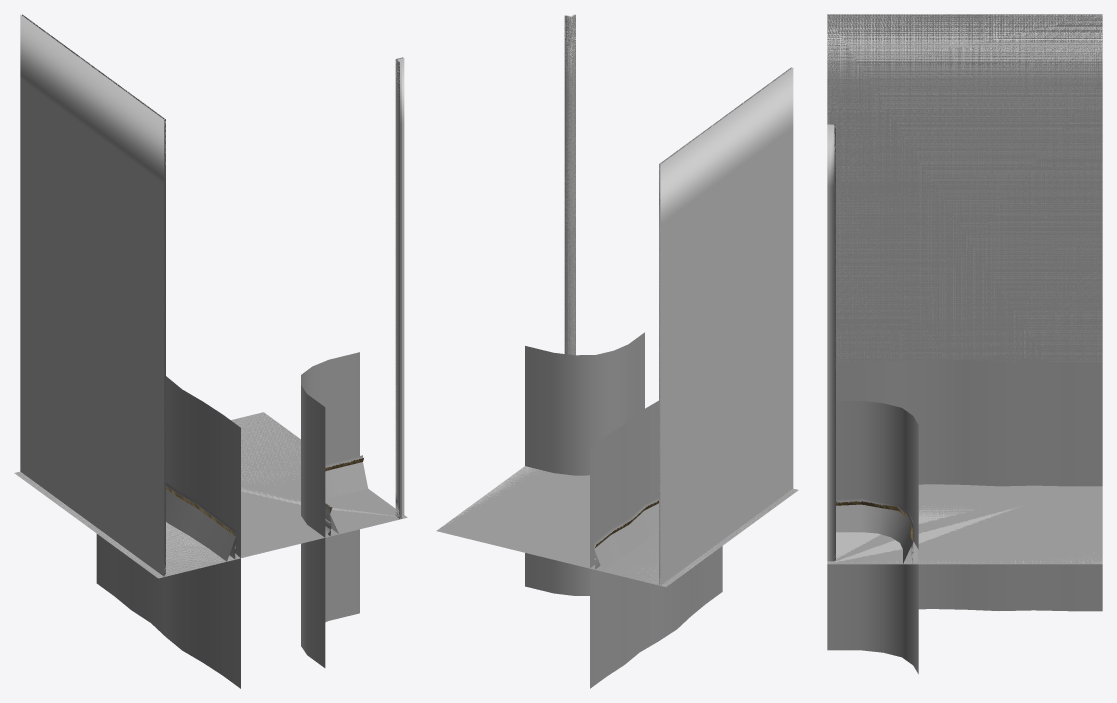
Rendered from roomgateC1.fbx.
3 renders of one model, left to right at view 1: azimuth 30°, elevation 25°; view 2: azimuth 150°, elevation 25°; view 3: azimuth 270°, elevation 25°, orthographic. The views are drawn at different scales.
Parts seen in each view (by area): view 1: mdl_LOD0, col_w, col_o, mdl2_LOD0; view 2: mdl_LOD0, col_w, col_o, mdl2_LOD0; view 3: col_o, col_w, mdl_LOD0, mdl2_LOD0.
Part boxes in pixels (x1,y1,x2,y2): mdl_LOD0: [15, 80, 405, 577]; col_w: [96, 352, 359, 688]; col_o: [14, 14, 407, 578]; mdl2_LOD0: [20, 14, 404, 536]; mdl_LOD0: [438, 76, 797, 586]; col_w: [525, 332, 722, 688]; col_o: [436, 15, 798, 586]; mdl2_LOD0: [564, 14, 793, 547]; col_o: [827, 14, 1102, 564]; col_w: [827, 359, 1102, 673]; mdl_LOD0: [827, 77, 1102, 564]; mdl2_LOD0: [827, 14, 1102, 541].
Size of what is drawn, in the model's own units: 1600 by 3600 by 1600.
